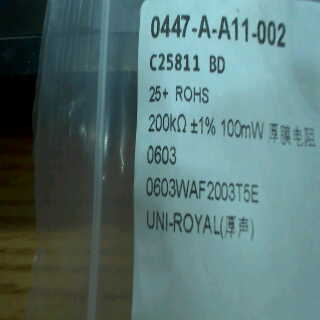200kR: (146, 110, 189, 137)
